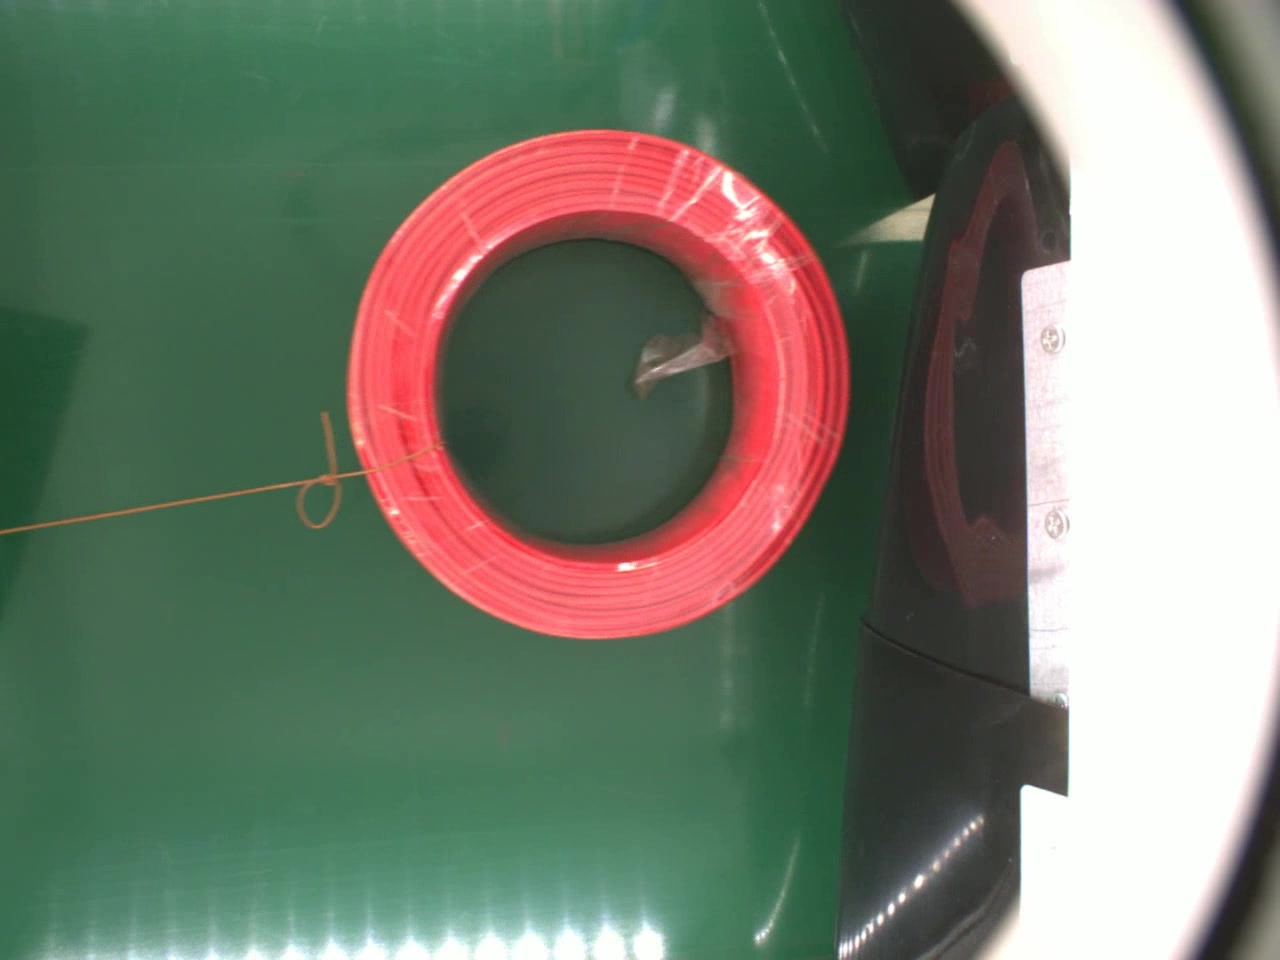red: (347, 126, 853, 644)
